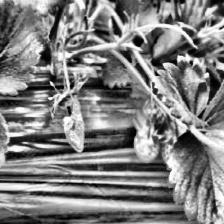Gray Mold: (48, 74, 88, 154)
